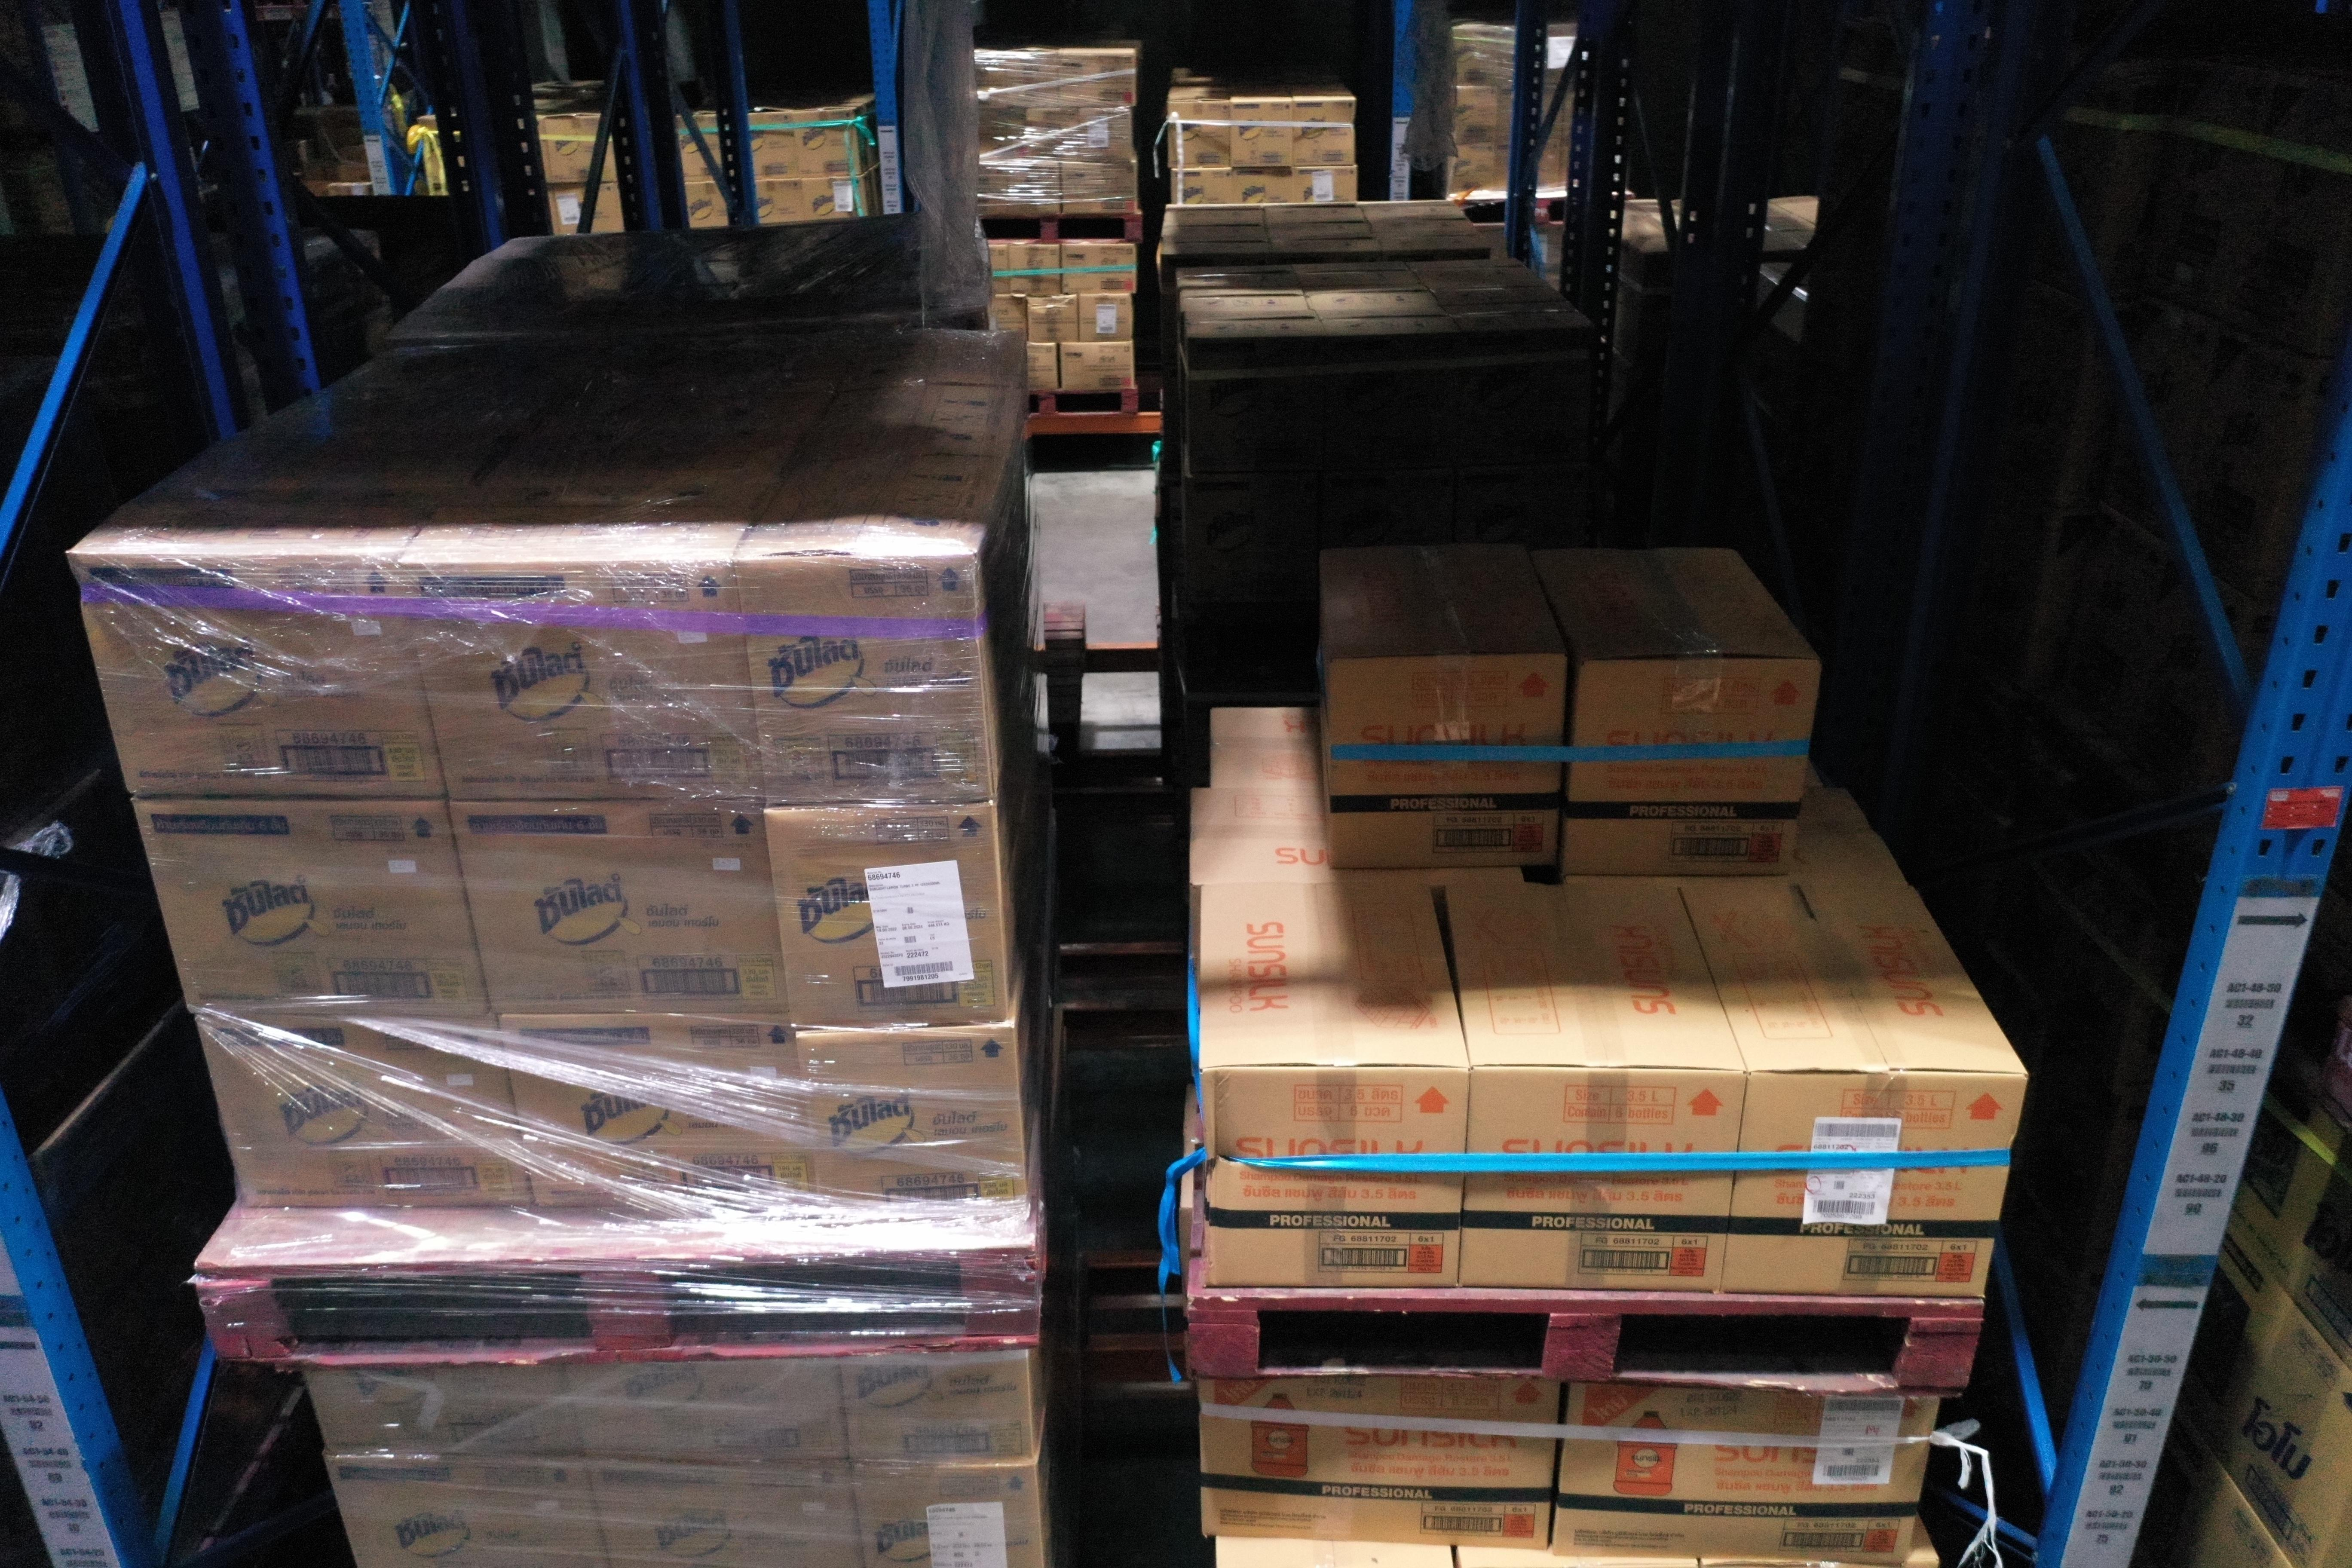-: (70, 546, 451, 798), (397, 560, 766, 798), (131, 793, 493, 1017), (446, 801, 789, 1018), (1552, 1384, 1941, 1568), (1718, 1073, 2030, 1298), (1458, 1066, 1750, 1291), (198, 1015, 537, 1207), (737, 556, 996, 805), (492, 1018, 815, 1211), (1195, 1064, 1473, 1286), (1200, 1382, 1561, 1549), (1563, 656, 1822, 878), (765, 801, 1008, 1027), (1326, 658, 1566, 871), (791, 1027, 1036, 1227), (327, 1461, 618, 1568), (588, 1463, 871, 1568), (572, 1358, 850, 1463), (308, 1368, 584, 1459), (840, 1349, 1036, 1463), (850, 1463, 1050, 1568)
